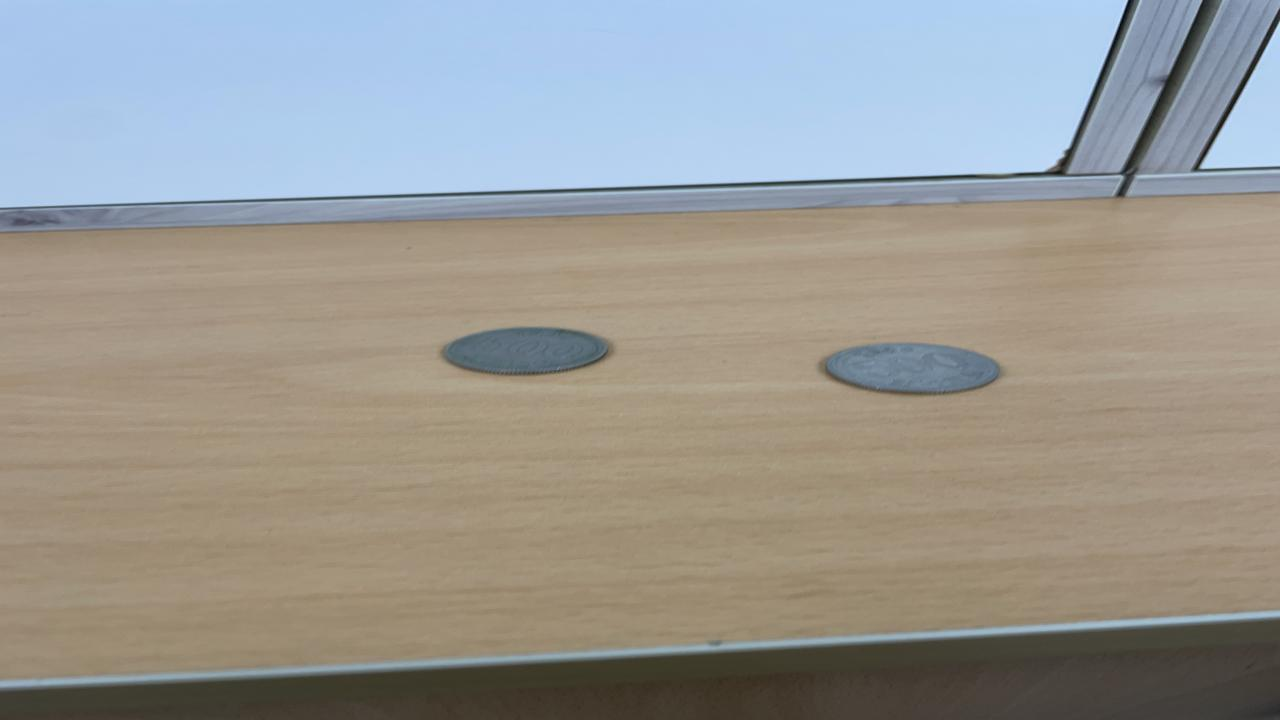coin: (817, 339, 1006, 396), (436, 324, 616, 376)
